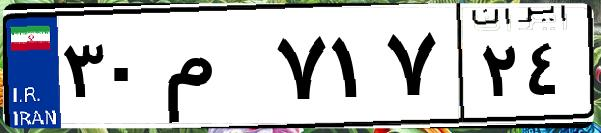0: (110, 28, 158, 98)
1: (330, 28, 385, 110)
2: (475, 38, 525, 113)
3: (57, 26, 110, 100)
4: (525, 38, 570, 115)
7: (270, 28, 330, 110), (385, 28, 445, 110)
م: (158, 20, 270, 120)
